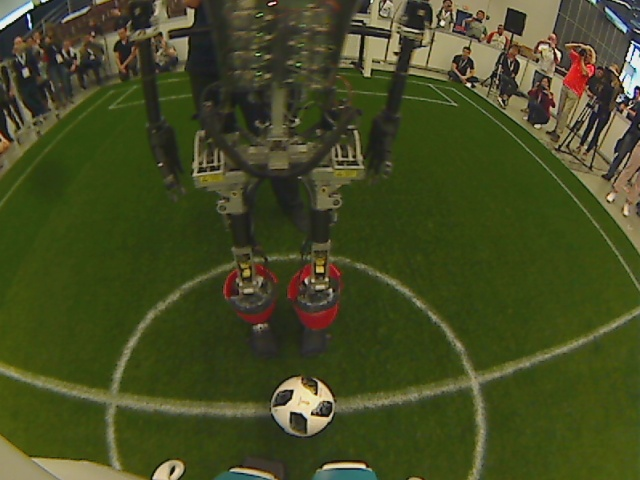ball: (267, 373, 338, 442)
